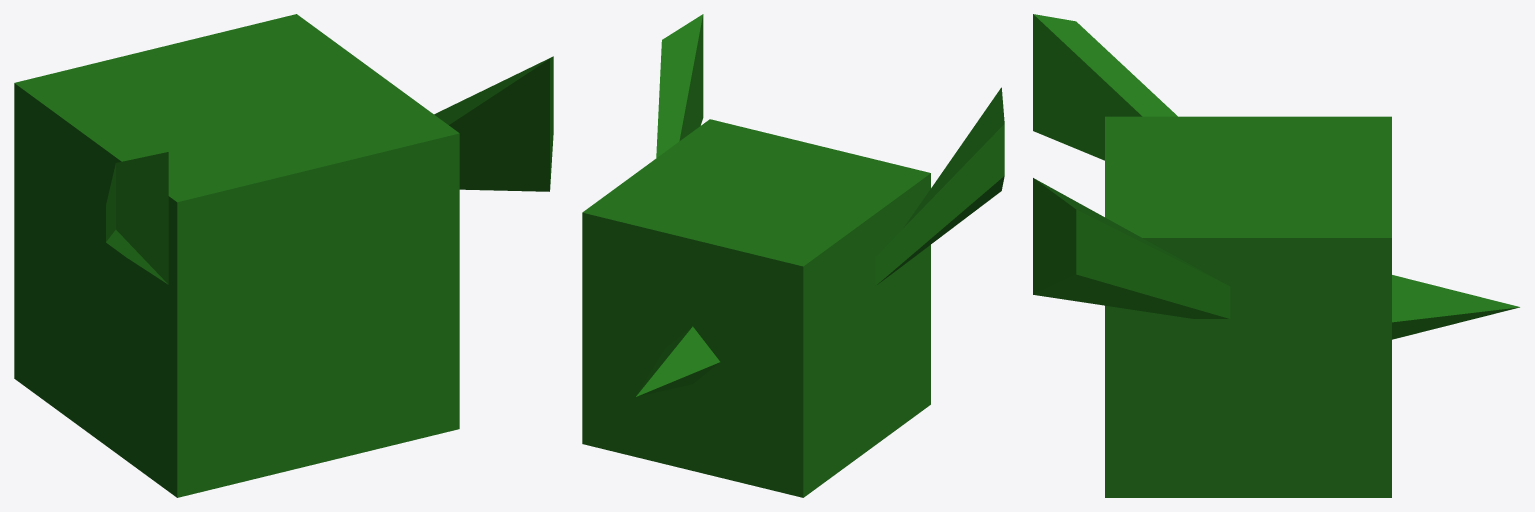
The model's file is goblin.gltf.
3 renders of one model, left to right at view 1: azimuth 30°, elevation 25°; view 2: azimuth 150°, elevation 25°; view 3: azimuth 270°, elevation 25°, orthographic. The views are drawn at different scales.
Visible parts, largest first — view 1: Cube.003; view 2: Cube.003; view 3: Cube.003.
Part boxes in pixels (x1,y1,x2,y2): Cube.003: (14, 14, 553, 497); Cube.003: (582, 14, 1004, 497); Cube.003: (1033, 14, 1519, 497).
Bounding box in the file's own units: 3.1 × 2.62 × 3.4.
